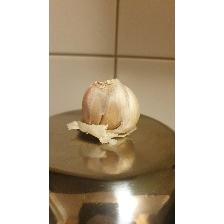Knoblauch: (82, 77, 142, 145)
